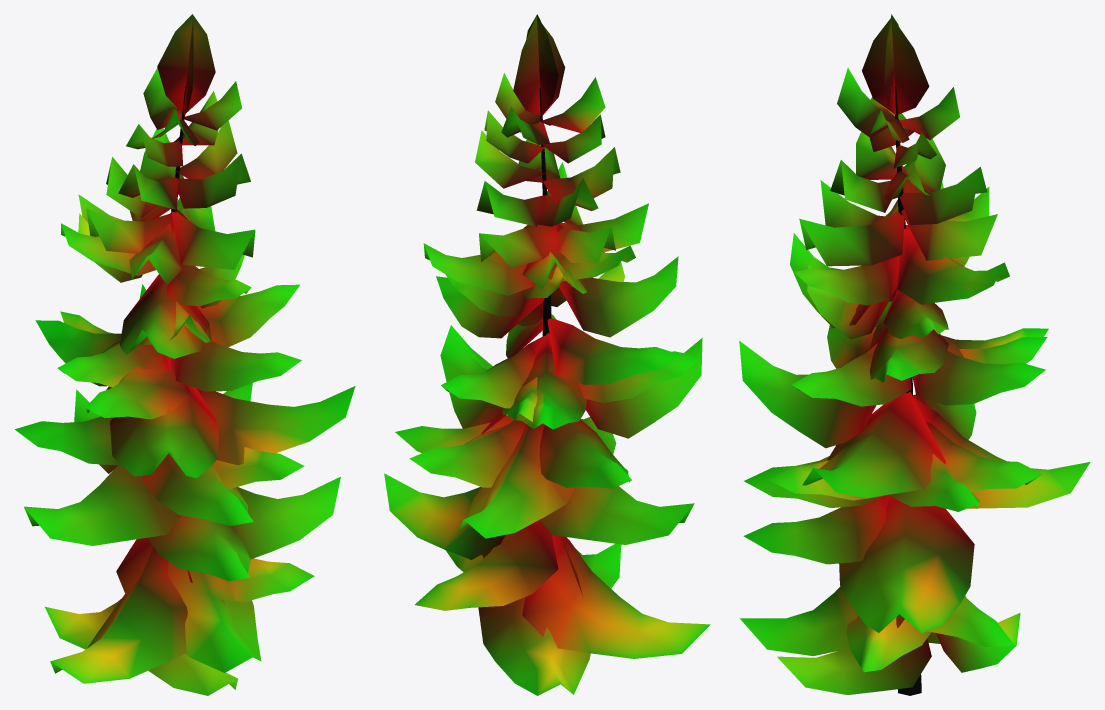
The model's file is Spruce_Small_5.fbx.
The picture shows the model from 3 angles, left to right: view 1: azimuth 30°, elevation 25°; view 2: azimuth 150°, elevation 25°; view 3: azimuth 270°, elevation 25°; orthographic projection. The views are drawn at different scales.
Parts seen in each view (by area): view 1: Spruce_Small_5; view 2: Spruce_Small_5; view 3: Spruce_Small_5.
Boxes of the visible parts, box(x1,y1,x2,y2) form: Spruce_Small_5: box(15, 14, 355, 695); Spruce_Small_5: box(384, 14, 710, 695); Spruce_Small_5: box(739, 14, 1090, 695).
Bounding box in the file's own units: 2.1 × 4.16 × 1.94.
